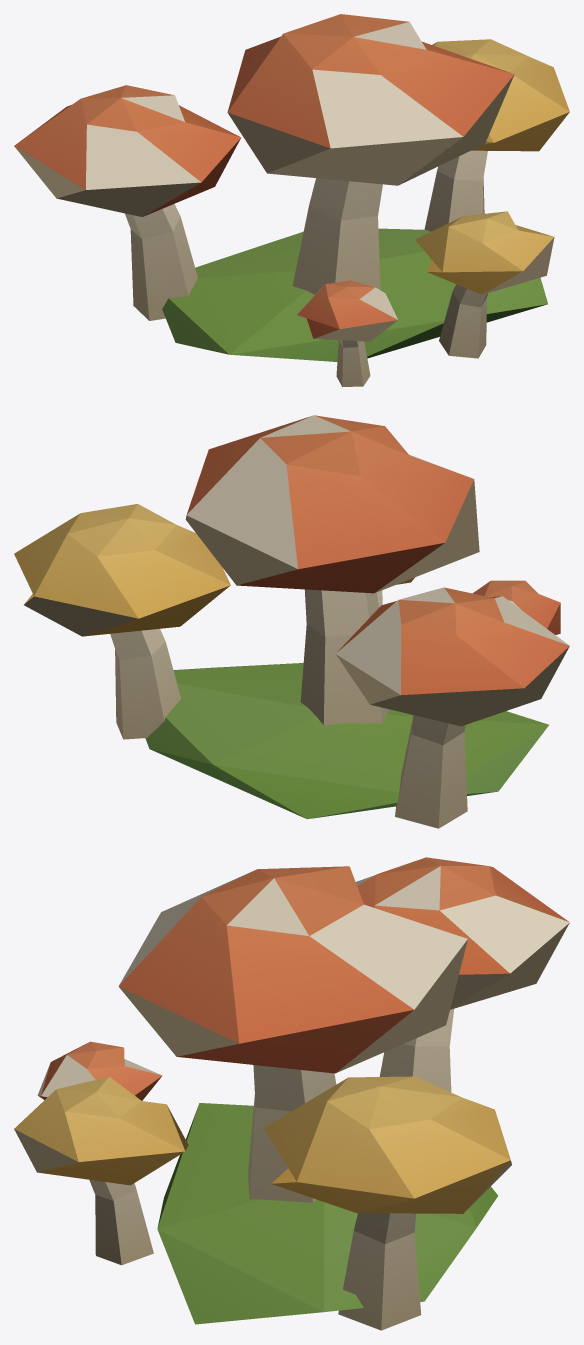
The model's file is ground_mushrooms_v3.fbx.
The picture shows the model from 3 angles, top to bottom: view 1: azimuth 30°, elevation 25°; view 2: azimuth 150°, elevation 25°; view 3: azimuth 270°, elevation 25°; orthographic projection. The views are drawn at different scales.
Parts seen in each view (by area): view 1: ground_mushrooms_v3; view 2: ground_mushrooms_v3; view 3: ground_mushrooms_v3.
Part boxes in pixels (<box>): ground_mushrooms_v3: <box>14,14,569,386</box>; ground_mushrooms_v3: <box>14,415,569,828</box>; ground_mushrooms_v3: <box>14,857,569,1330</box>.
Size of the model in its own units: 530 by 287 by 408.
